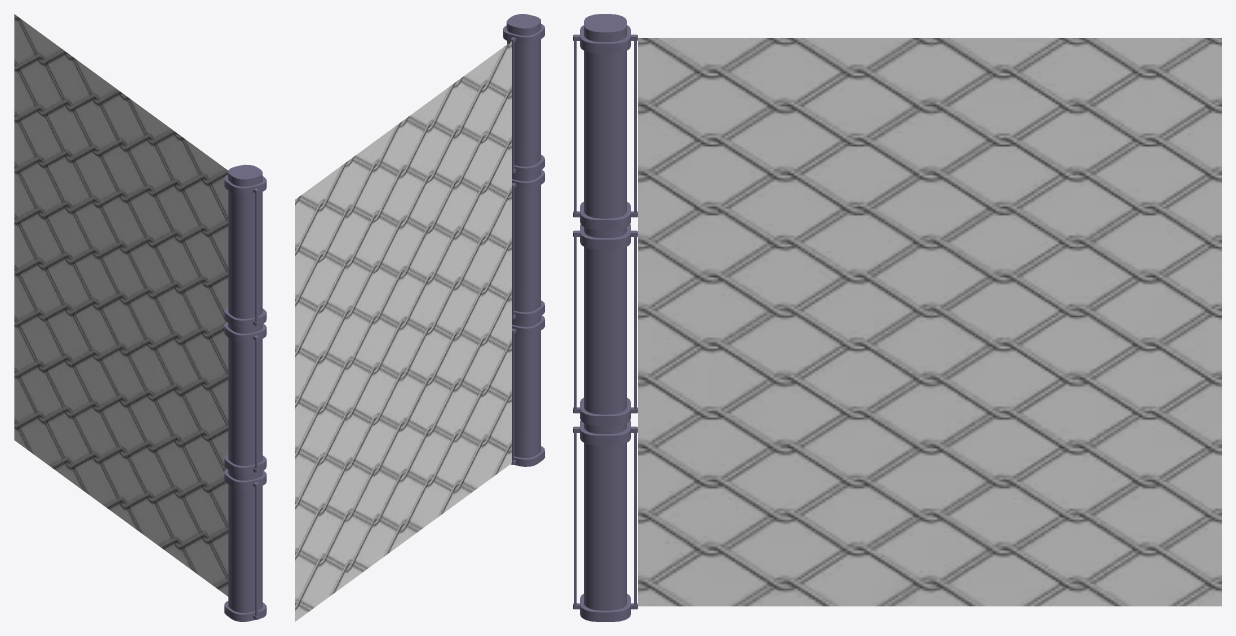
File: grillage.fbx
3 views of the same model, side by side, from view 1: azimuth 30°, elevation 25°; view 2: azimuth 150°, elevation 25°; view 3: azimuth 270°, elevation 25° (orthographic). The views are drawn at different scales.
Visible parts, largest first — view 1: Plane, poteau; view 2: Plane, poteau; view 3: Plane, poteau.
Boxes of the visible parts, left/top/right/bottom form: Plane: left=14, top=14, right=228, bottom=596; poteau: left=224, top=164, right=266, bottom=621; Plane: left=295, top=41, right=511, bottom=621; poteau: left=503, top=14, right=544, bottom=466; Plane: left=638, top=38, right=1221, bottom=606; poteau: left=573, top=14, right=637, bottom=621.
Size of the model in its own units: 600 by 47.07 by 600.
Materials: 2 (1 with a texture image).
